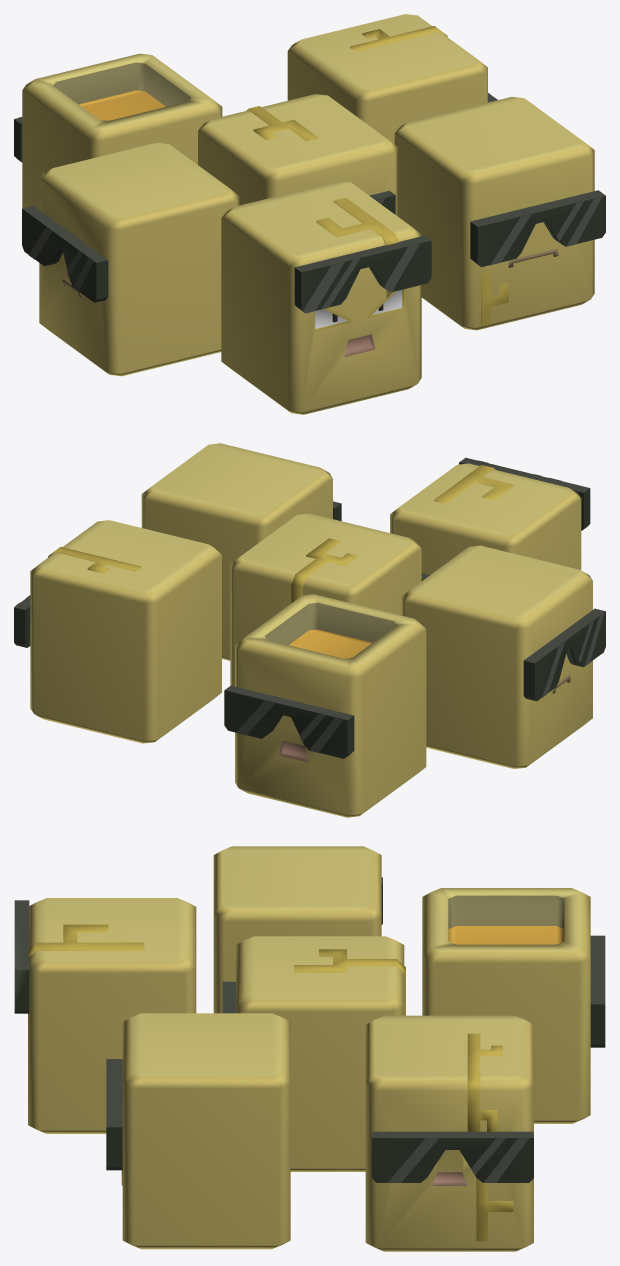
The model's file is PM102_sunglasses_R.fbx.
3 views of the same model, one above another, from view 1: azimuth 30°, elevation 25°; view 2: azimuth 150°, elevation 25°; view 3: azimuth 270°, elevation 25° (orthographic). The views are drawn at different scales.
Visible parts, largest first — view 1: model; view 2: model; view 3: model.
Part boxes in pixels (x1,y1,x2,y2): model: (14,14,605,414); model: (14,443,605,817); model: (14,846,605,1251).
Bounding box in the file's own units: 2.77 × 0.883 × 2.73.
